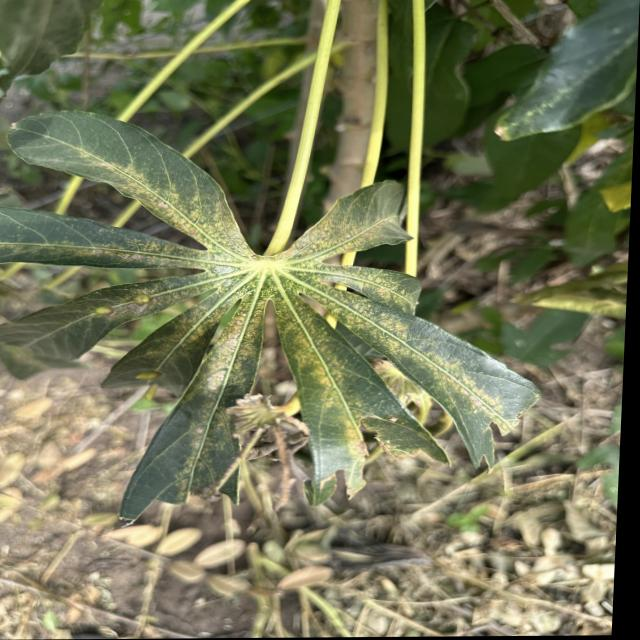Mosca: (130, 358, 178, 397), (93, 292, 133, 335), (124, 274, 165, 314)
